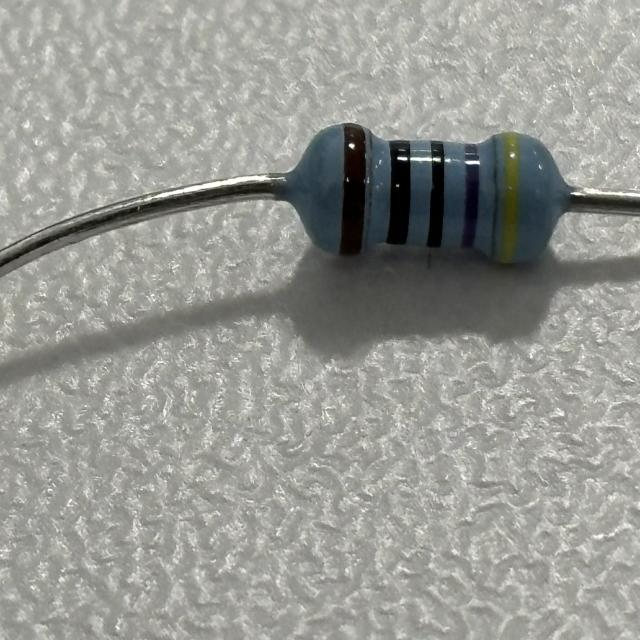resistor: (310, 119, 549, 269)
